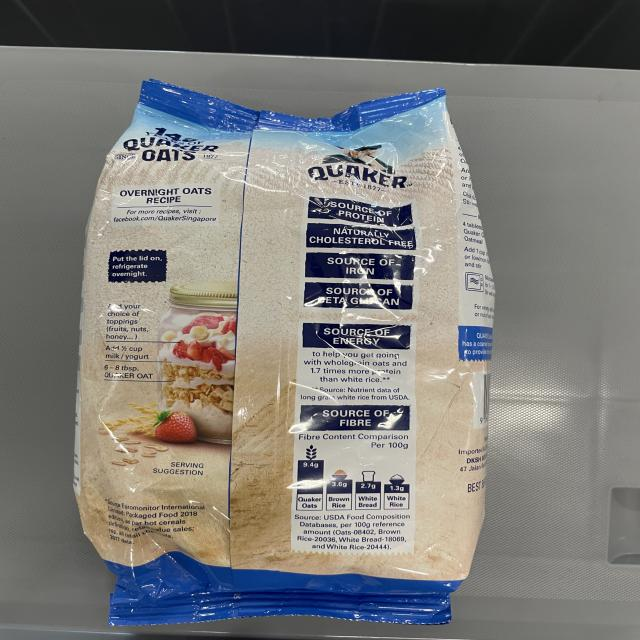object_name: (106, 97, 470, 619)
